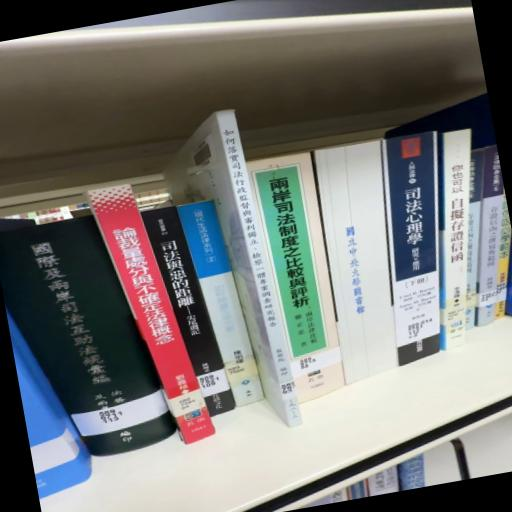backward: (314, 141, 398, 384)
book: (158, 107, 313, 465), (1, 193, 187, 471), (84, 182, 216, 460), (363, 129, 479, 364), (145, 198, 241, 434), (176, 194, 272, 420), (252, 151, 349, 360)
